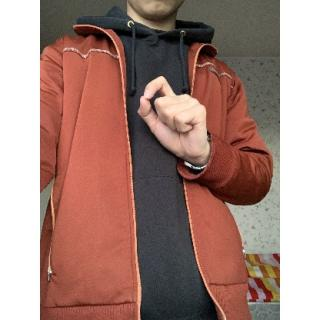FAA: (134, 73, 216, 164)
